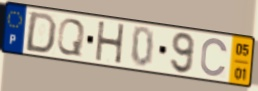0: (130, 26, 156, 69)
9: (169, 31, 196, 76)
C: (199, 37, 230, 78)
D: (23, 11, 59, 55)
H: (95, 21, 127, 66)
Q: (55, 17, 87, 58)
